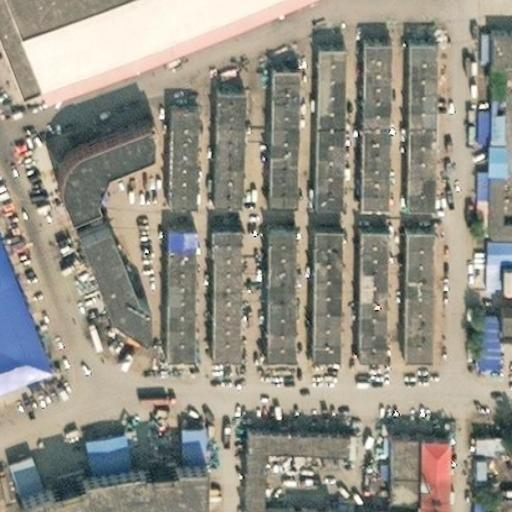building: (0, 0, 235, 78), (13, 448, 197, 512), (237, 408, 343, 491), (51, 95, 144, 189), (70, 203, 138, 316), (0, 243, 49, 364), (310, 29, 343, 194), (348, 25, 379, 190), (394, 28, 424, 193), (258, 47, 287, 191), (398, 209, 429, 340), (259, 208, 290, 336), (209, 60, 241, 183), (351, 210, 381, 340), (207, 205, 236, 336), (307, 208, 334, 337), (163, 204, 189, 334), (165, 79, 196, 180), (414, 414, 444, 512), (78, 413, 127, 459), (383, 414, 415, 483), (476, 223, 512, 278), (466, 419, 510, 461), (173, 403, 202, 449), (3, 439, 34, 480), (480, 91, 499, 153), (467, 302, 488, 355), (467, 153, 480, 222), (496, 303, 512, 341), (77, 500, 121, 512), (467, 90, 481, 127), (464, 486, 480, 512), (481, 68, 495, 91), (462, 241, 477, 259), (471, 18, 480, 46)
